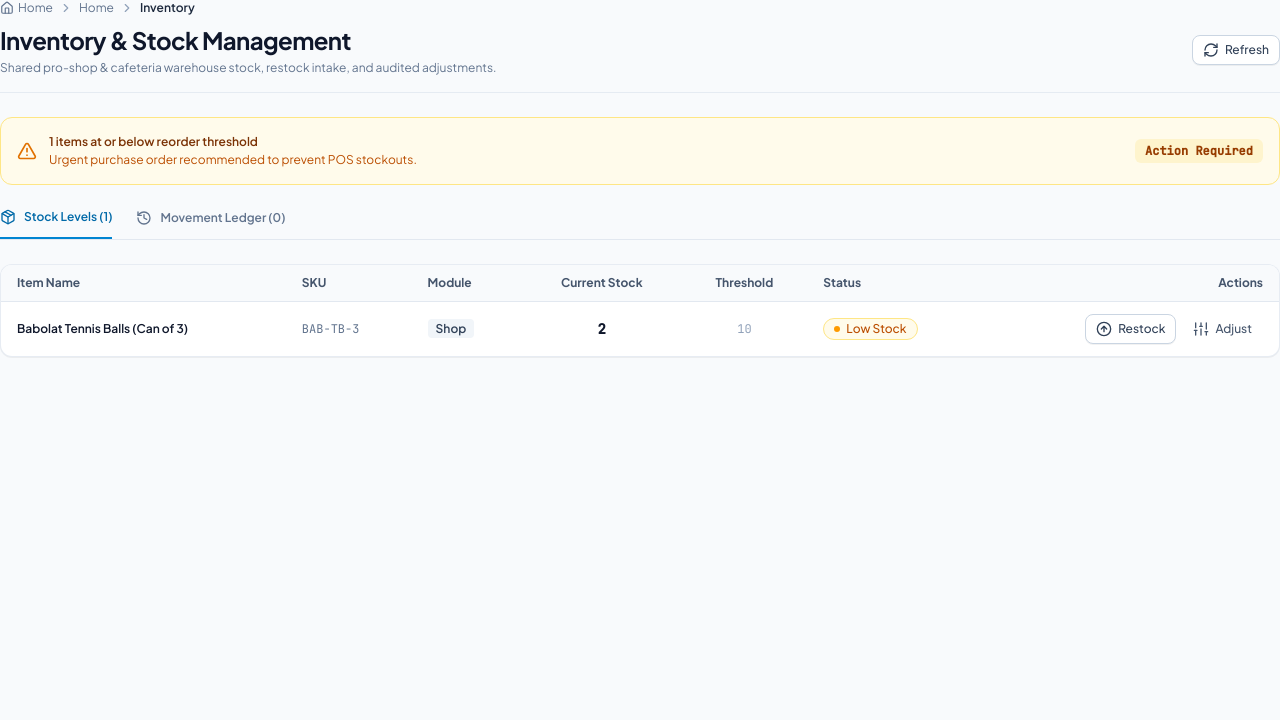
Scenario: Milestone H5 & H6: Operational Modules Unit & Integration Tests › renders Shop Inventory control and opens Restock modal
The width and height of the screenshot is (1280, 720).
Expected: the text "Babolat Tennis Balls (Can of 3)" is shown, [1,302,286,356]
Expected: the text "Low Stock" is shown, [823,318,918,340]
Click the button "Restock" at (1131, 329), box [1085,314,1176,344]
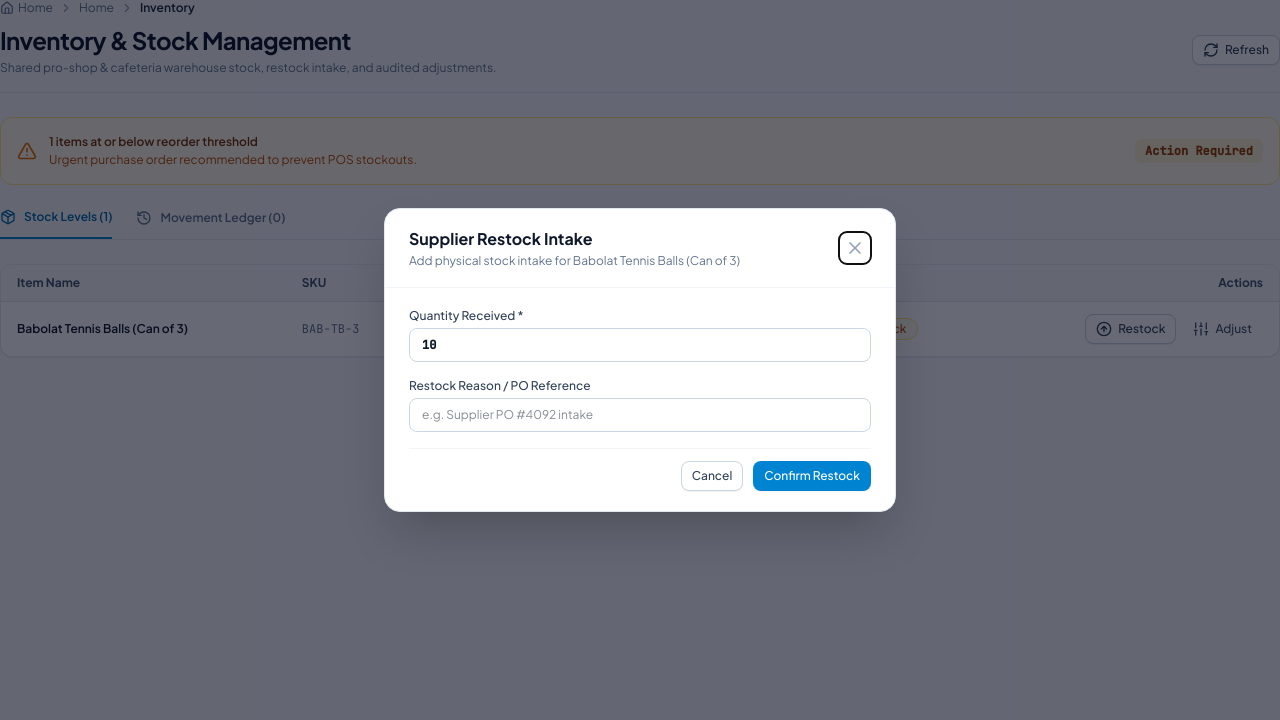
Expected: the heading "Supplier Restock Intake" is shown, [409,228,593,249]
